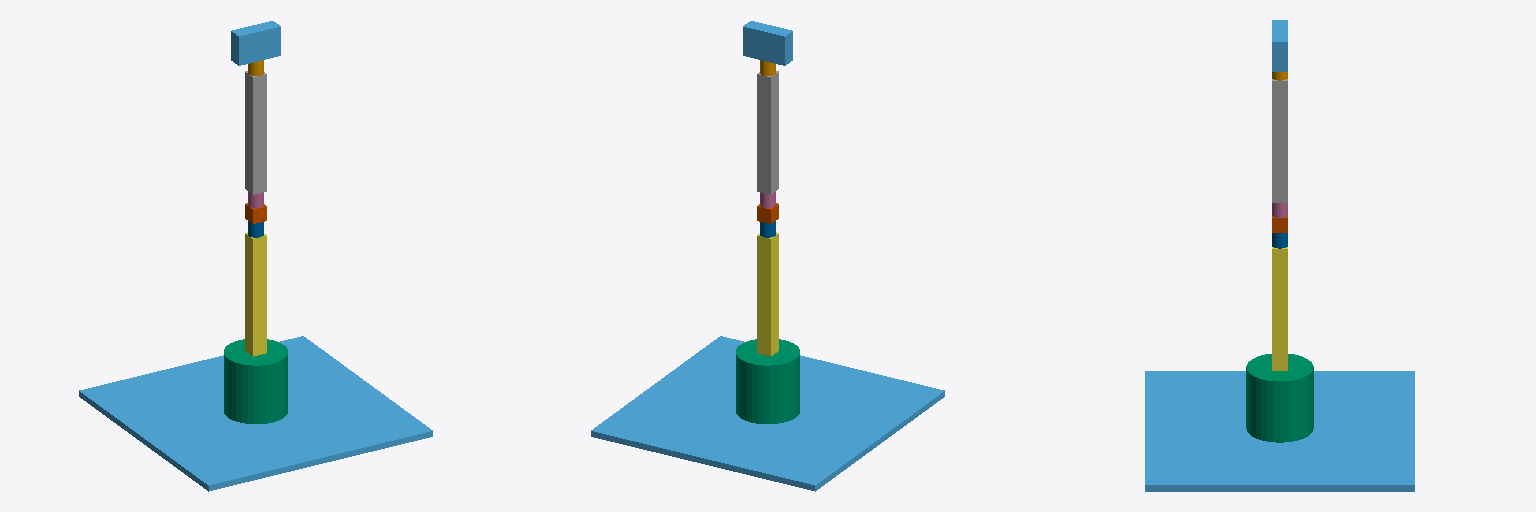
robot.urdf — my_seven_dof_arm:
<?xml version="1.0"?>
<robot name="my_seven_dof_arm">

<link name="origin">
    <origin xyz="0 0 0.005"/>
</link>

<joint name="rotating_base" type="revolute">
  <parent link="origin"/>
  <child link="base_link"/>
  <origin xyz="0 0 0"/>
  <axis xyz="0 0 1"/>
  <limit effort="300" lower="-3.14" upper="3.14" velocity="0.1"/>
</joint>

  <link name="base_link">
    <visual>
      <geometry>
        <box size="0.4 0.4 0.01"/>
      </geometry>
      <origin xyz="0 0 0.005"/>
    </visual>
  </link>

  <joint name="link_1_pan_joint" type="revolute">
    <parent link="base_link"/>
    <child link="link_1"/>
    <origin xyz="0 0 0.01"/>
    <axis xyz="0 0 1"/>
    <limit effort="300" velocity="0.1" lower="-3.14" upper="3.14"/>
  </joint>

  <link name="link_1">
    <visual>
      <geometry>
        <cylinder length="0.1" radius="0.05"/>
      </geometry>
      <origin xyz="0 0 0.05"/>
    </visual>
  </link>

  <joint name="link_1_link_2_joint" type="revolute">
    <parent link="link_1"/>
    <child link="link_2"/>
    <origin xyz="0 0 0.1"/>
    <limit effort="300" velocity="0.1" lower="1.57" upper="-1.57"/>
  </joint>

  <link name="link_2">
    <visual>
      <geometry>
        <box size="0.025 0.025 0.2"/>
      </geometry>
      <origin xyz="0 0 0.1"/>
    </visual>
  </link>

  <joint name="link_2_link_3_joint" type="revolute">
    <parent link="link_2"/>
    <child link="link_3"/>
    <origin xyz="0 0 0.2"/>
    <limit effort="300" velocity="0.1" lower="1.57" upper="-1.57"/>
    <axis xyz="0 0 1"/>
  </joint>

  <link name="link_3">
    <visual>
      <geometry>
        <cylinder length="0.025" radius="0.0125"/>
      </geometry>
      <origin xyz="0 0 0.0125"/>
    </visual>
  </link>

  <joint name="link_3_link_4_joint" type="revolute">
    <parent link="link_3"/>
    <child link="link_4"/>
    <origin xyz="0 0 0.025"/>
    <limit effort="300" velocity="0.1" lower="0" upper="-1.57"/>
  </joint>

  <link name="link_4">
    <visual>
      <geometry>
        <box size="0.025 0.025 0.025"/>
      </geometry>
      <origin xyz="0 0 0.0125"/>
    </visual>
  </link>

  <joint name="link_4_link_5_joint" type="revolute">
    <parent link="link_4"/>
    <child link="link_5"/>
    <origin xyz="0 0 0.025"/>
    <limit effort="300" velocity="0.1" lower="1.5" upper="-1.57"/>
    <axis xyz="0 0 1"/>
  </joint>

  <link name="link_5">
    <visual>
      <geometry>
        <cylinder length="0.025" radius="0.0125"/>
      </geometry>
      <origin xyz="0 0 0.0125"/>
    </visual>
  </link>

  <joint name="link_5_link_6_joint" type="revolute">
    <parent link="link_5"/>
    <child link="link_6"/>
    <origin xyz="0 0 0.025"/>
    <limit effort="300" velocity="0.1" lower="0" upper="-1.57"/>
  </joint>

  <link name="link_6">
    <visual>
      <geometry>
        <box size="0.025 0.025 0.2"/>
      </geometry>
      <origin xyz="0 0 0.1"/>
    </visual>
  </link>

  <joint name="link_6_link_7_joint" type="revolute">
    <parent link="link_6"/>
    <child link="link_7"/>
    <origin xyz="0 0 0.2"/>
    <limit effort="300" velocity="0.1" lower="1.57" upper="-1.57"/>
    <axis xyz="0 0 1"/>
  </joint>

  <link name="link_7">
    <visual>
      <geometry>
        <cylinder length="0.025" radius="0.0125"/>
      </geometry>
      <origin xyz="0 0 0.0125"/>
    </visual>
  </link>

  <joint name="link_7_link_8_joint" type="revolute">
    <parent link="link_7"/>
    <child link="hand"/>
    <origin xyz="0 0 0.025"/>
    <limit effort="300" velocity="0.1" lower="1.5" upper="-1.57"/>
  </joint>

  <link name="hand">
    <visual>
      <geometry>
        <box size="0.075 0.025 0.05"/>
      </geometry>
      <origin xyz="0 0 0.025"/>
    </visual>
  </link>

</robot>

--- Render facts (derived) ---
Views: 3 orthographic renders of the robot side by side, from view 1: azimuth 30°, elevation 25°; view 2: azimuth 150°, elevation 25°; view 3: azimuth 270°, elevation 25°.
Robot: my_seven_dof_arm — 10 links, 9 joints (9 revolute); root link origin; default pose: every joint at zero.
Links seen in each view (by area): view 1: base_link, link_1, link_2, link_6, hand; view 2: base_link, link_1, link_2, link_6, hand; view 3: base_link, link_1, link_2, link_6, hand.
Link boxes in pixels (x1,y1,x2,y2): base_link: [79, 336, 432, 491]; link_1: [224, 339, 287, 423]; link_2: [245, 232, 266, 356]; link_6: [245, 71, 266, 194]; hand: [231, 21, 280, 65]; base_link: [591, 336, 944, 491]; link_1: [736, 339, 799, 423]; link_2: [757, 232, 778, 356]; link_6: [757, 71, 778, 194]; hand: [743, 21, 792, 65]; base_link: [1145, 371, 1414, 491]; link_1: [1246, 354, 1313, 442]; link_2: [1272, 247, 1287, 370]; link_6: [1272, 79, 1287, 202]; hand: [1272, 20, 1287, 71].
Size in the robot's own frame: 0.4 by 0.4 by 0.66 metres.
Geometry: primitives only (box / cylinder / sphere), no mesh files.
